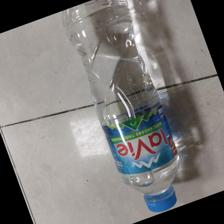Lavie: (60, 1, 177, 213)
